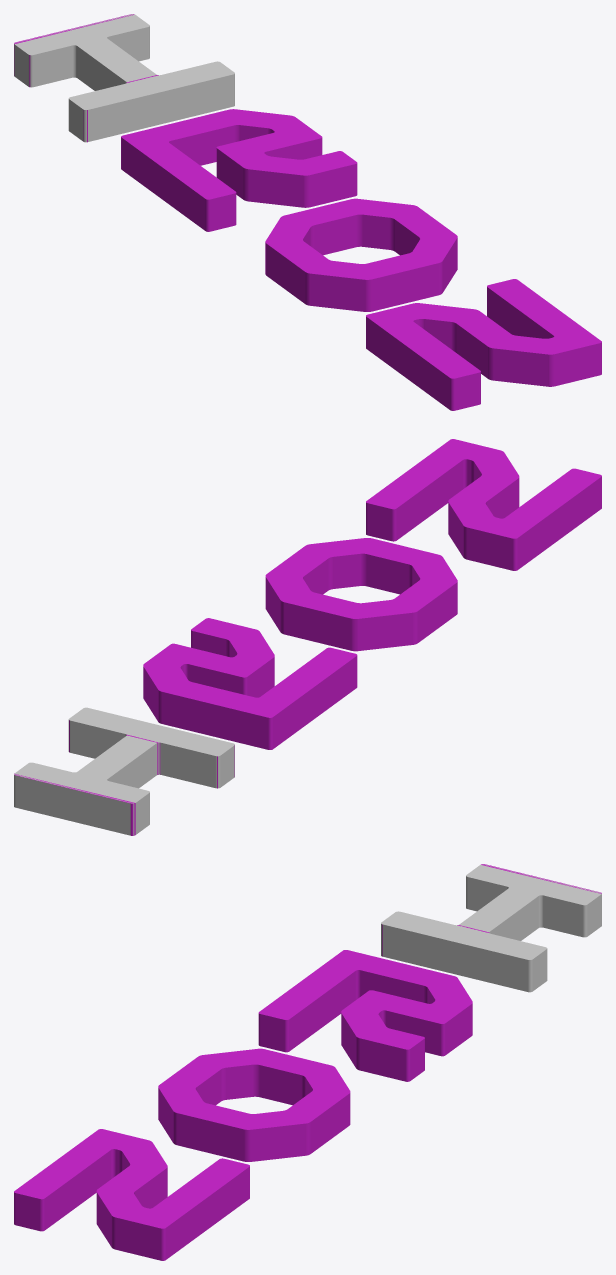
The model's file is sign-Changed.fbx.
3 views of the same model, one above another, from view 1: azimuth 30°, elevation 25°; view 2: azimuth 150°, elevation 25°; view 3: azimuth 330°, elevation 25° (orthographic).
Parts seen in each view (by area): view 1: Text; view 2: Text; view 3: Text.
Boxes of the visible parts, x1,y1,x2,y2 form: Text: [14, 14, 601, 410]; Text: [14, 439, 601, 835]; Text: [14, 864, 601, 1260].
Size of the model in its own units: 71.43 by 14.54 by 371.
